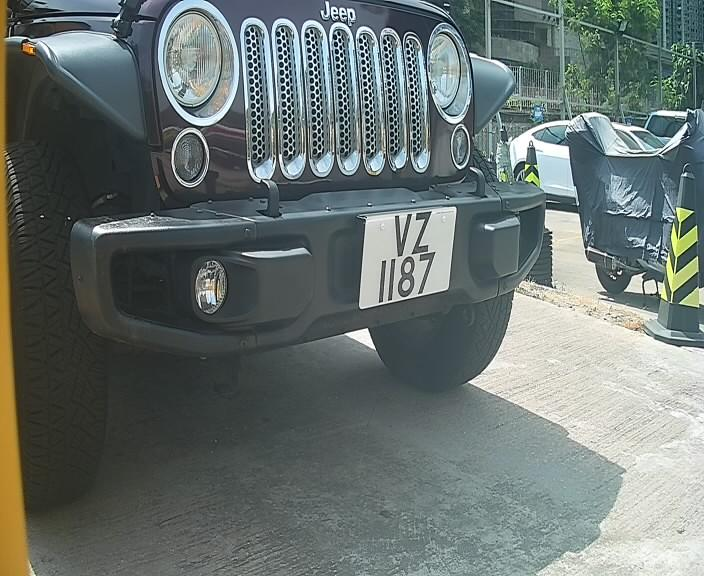Car: (54, 3, 579, 476)
License Plate: (353, 196, 459, 322)
